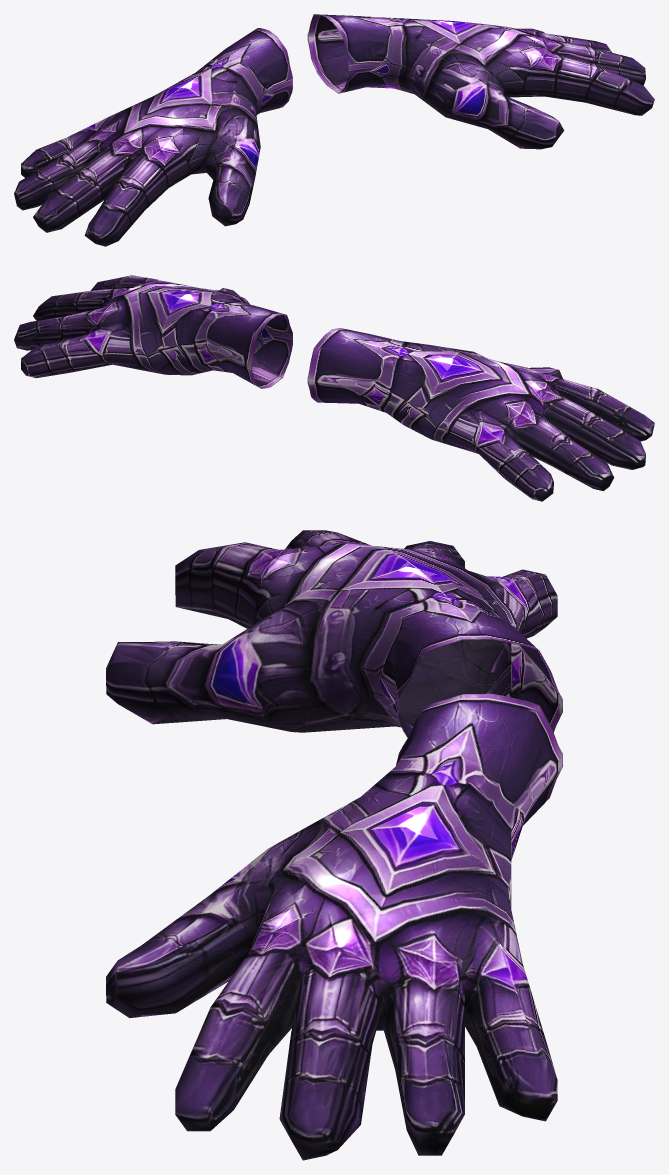
Rendered from TungstenGloves.glb.
3 views of the same model, one above another, from view 1: azimuth 30°, elevation 25°; view 2: azimuth 150°, elevation 25°; view 3: azimuth 270°, elevation 25° (orthographic). The views are drawn at different scales.
Bounding box in the file's own units: 2 × 0.3199 × 0.6521.
Materials: 1 (1 with a texture image).
